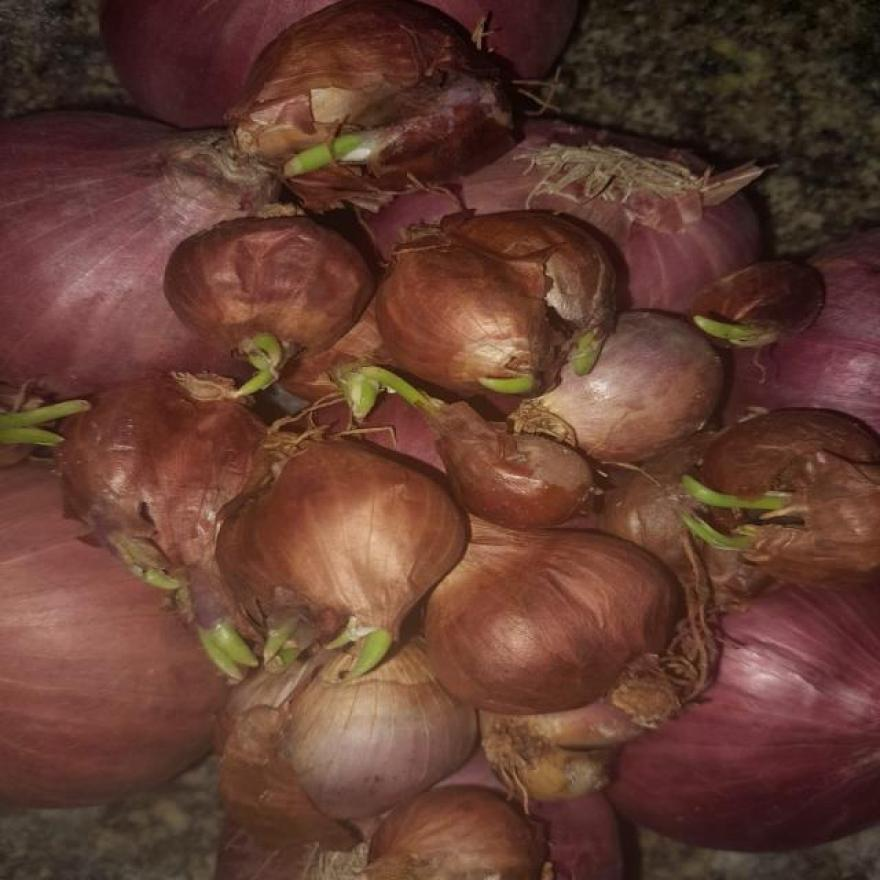Sprouted: (188, 610, 394, 680), (679, 460, 795, 563), (492, 341, 609, 413), (680, 316, 798, 366), (208, 346, 305, 398), (260, 145, 400, 175), (339, 374, 421, 412)
